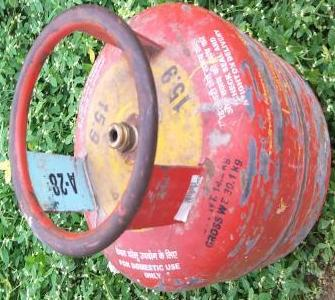cylinder: (1, 1, 335, 300)
